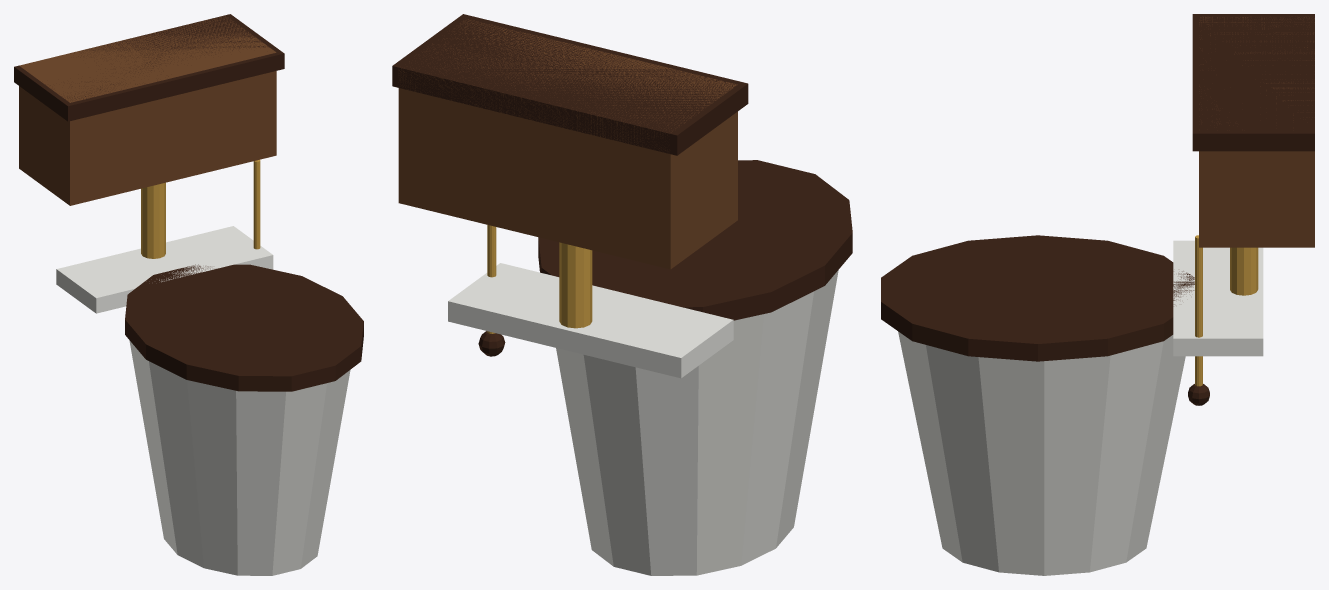
File: vaso_sanitario.obj
3 views of the same model, side by side, from view 1: azimuth 30°, elevation 25°; view 2: azimuth 150°, elevation 25°; view 3: azimuth 270°, elevation 25° (orthographic). The views are drawn at different scales.
Visible parts, largest first — view 1: parte_00_porcelana, parte_04_madeira, parte_01_madeira_escura, parte_05_madeira_escura, parte_02_porcelana, parte_03_latao, parte_06_latao; view 2: parte_00_porcelana, parte_04_madeira, parte_05_madeira_escura, parte_01_madeira_escura, parte_02_porcelana, parte_03_latao; view 3: parte_00_porcelana, parte_01_madeira_escura, parte_05_madeira_escura, parte_04_madeira, parte_02_porcelana, parte_03_latao, parte_06_latao.
Boxes of the visible parts, x1,y1,x2,y2 form: parte_00_porcelana: (129,340,350,575); parte_04_madeira: (19,15,276,205); parte_01_madeira_escura: (125,264,363,391); parte_05_madeira_escura: (14,14,284,121); parte_02_porcelana: (56,226,273,313); parte_03_latao: (141,182,165,258); parte_06_latao: (253,159,260,249); parte_00_porcelana: (556,270,838,575); parte_04_madeira: (398,19,737,269); parte_05_madeira_escura: (392,14,748,155); parte_01_madeira_escura: (538,160,852,320); parte_02_porcelana: (448,263,733,378); parte_03_latao: (559,242,592,328); parte_00_porcelana: (898,331,1185,575); parte_01_madeira_escura: (881,235,1194,361); parte_05_madeira_escura: (1192,14,1314,151); parte_04_madeira: (1199,17,1314,247); parte_02_porcelana: (1173,240,1263,356); parte_03_latao: (1230,247,1258,295); parte_06_latao: (1195,235,1202,386).
Size of the model in its own units: 0.44 by 0.8 by 0.6737.
